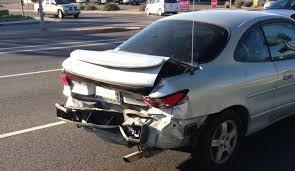Smashed: (54, 51, 202, 148)
